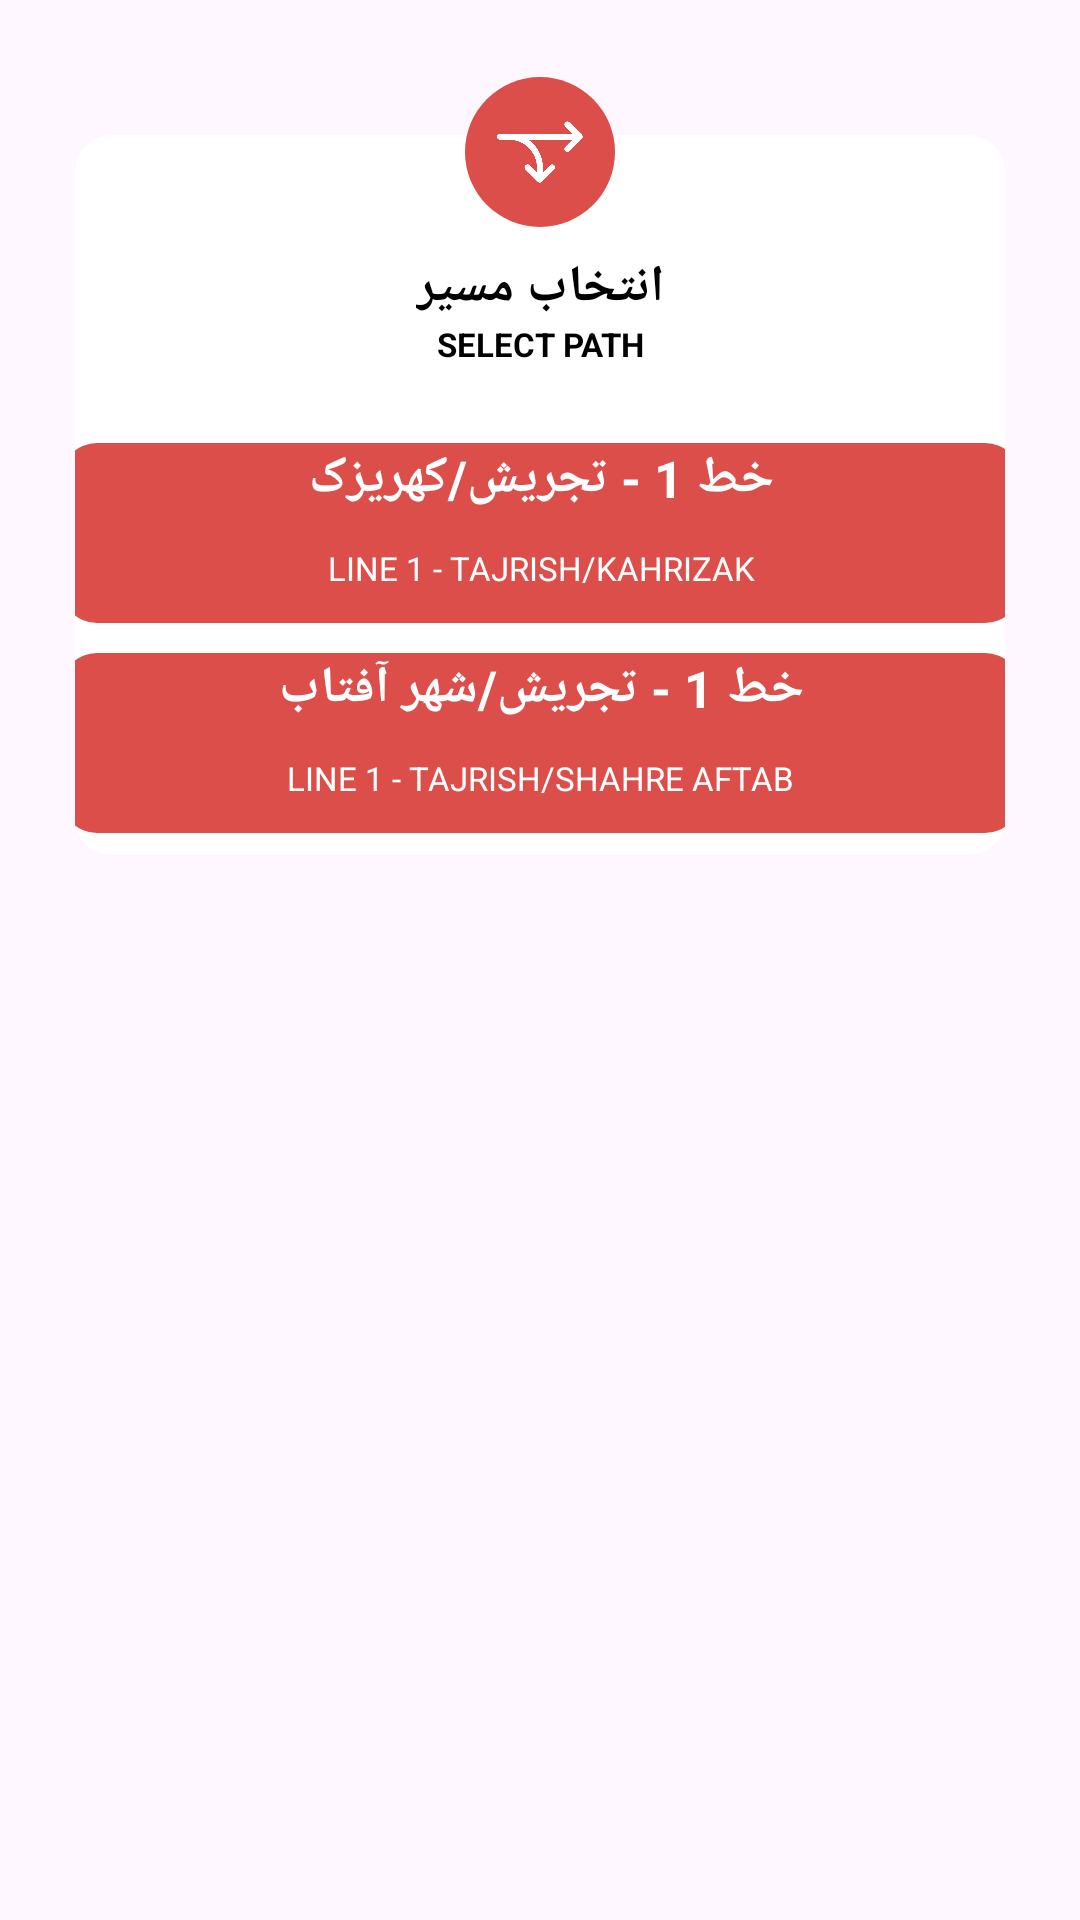

Where icons sit on this 1080w x 1920h app screen, as (x1, y1, x2, y2):
intersection: (465, 77, 615, 227)
